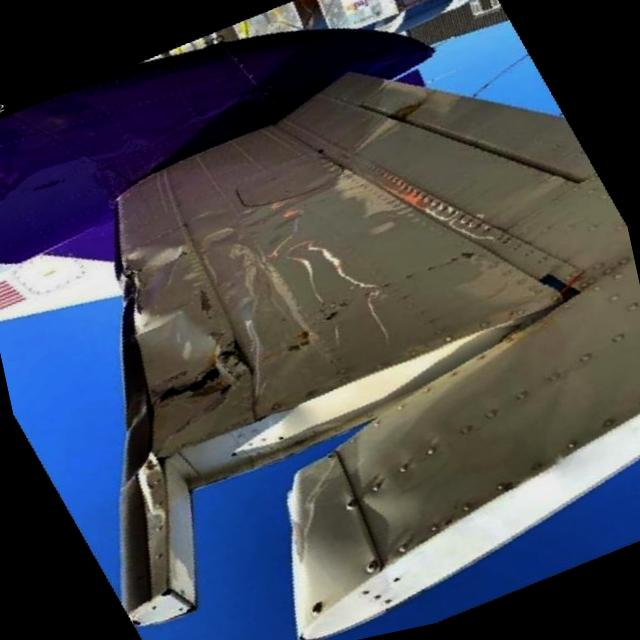dent: (110, 231, 208, 333)
